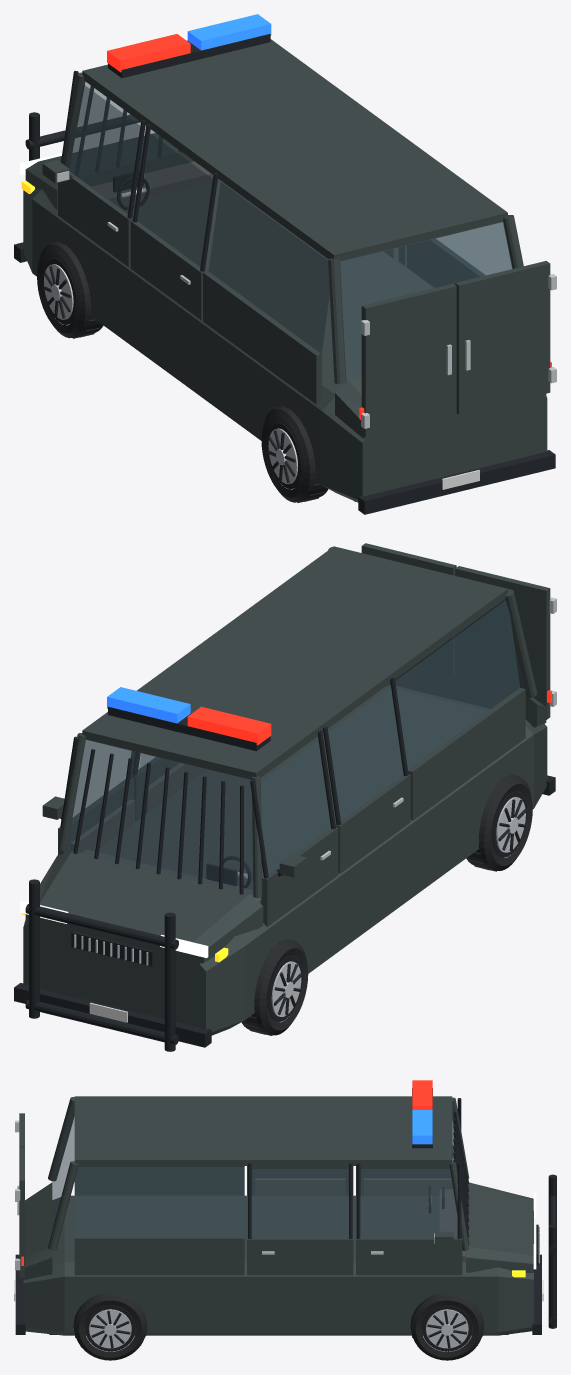
File: police_enforcer.glb
The picture shows the model from 3 angles, top to bottom: view 1: azimuth 30°, elevation 25°; view 2: azimuth 150°, elevation 25°; view 3: azimuth 270°, elevation 25°; orthographic projection. The views are drawn at different scales.
Parts seen in each view (by area): view 1: Body, Door_Rear_R, Door_Rear_L, Door_FL, Door_RL, Wheel_RL, Wheel_FL; view 2: Body, Door_FL, Door_RL, Door_Rear_L, Door_FR, Wheel_FL, Wheel_RL, Door_RR, Door_Rear_R; view 3: Body, Door_RR, Door_FR, Wheel_RR, Wheel_FR, Door_RL, Door_FL, Door_Rear_R.
Part boxes in pixels (<box>): Body: <box>14,14,555,514</box>; Door_Rear_R: <box>455,261,556,414</box>; Door_Rear_L: <box>361,283,456,437</box>; Door_FL: <box>42,70,145,266</box>; Door_RL: <box>130,124,218,320</box>; Wheel_RL: <box>261,406,328,502</box>; Wheel_FL: <box>37,241,103,338</box>; Body: <box>14,546,555,1051</box>; Door_FL: <box>250,730,338,926</box>; Door_RL: <box>323,677,410,873</box>; Door_Rear_L: <box>455,566,556,719</box>; Door_FR: <box>42,736,136,855</box>; Wheel_FL: <box>241,939,308,1035</box>; Wheel_RL: <box>466,774,532,871</box>; Door_RR: <box>132,752,206,819</box>; Door_Rear_R: <box>361,543,456,675</box>; Body: <box>14,1080,556,1335</box>; Door_RR: <box>247,1163,353,1275</box>; Door_FR: <box>356,1163,462,1275</box>; Wheel_RR: <box>73,1292,147,1360</box>; Wheel_FR: <box>410,1292,484,1360</box>; Door_RL: <box>247,1166,353,1195</box>; Door_FL: <box>356,1098,461,1195</box>; Door_Rear_R: <box>15,1147,24,1277</box>.
Size of what is drawn, in the model's own units: 2.9 by 3.13 by 7.23.
